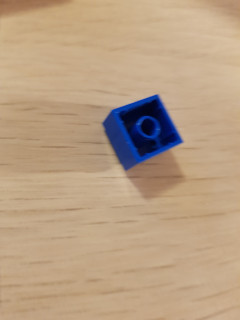2x2 blue: (103, 93, 185, 171)
